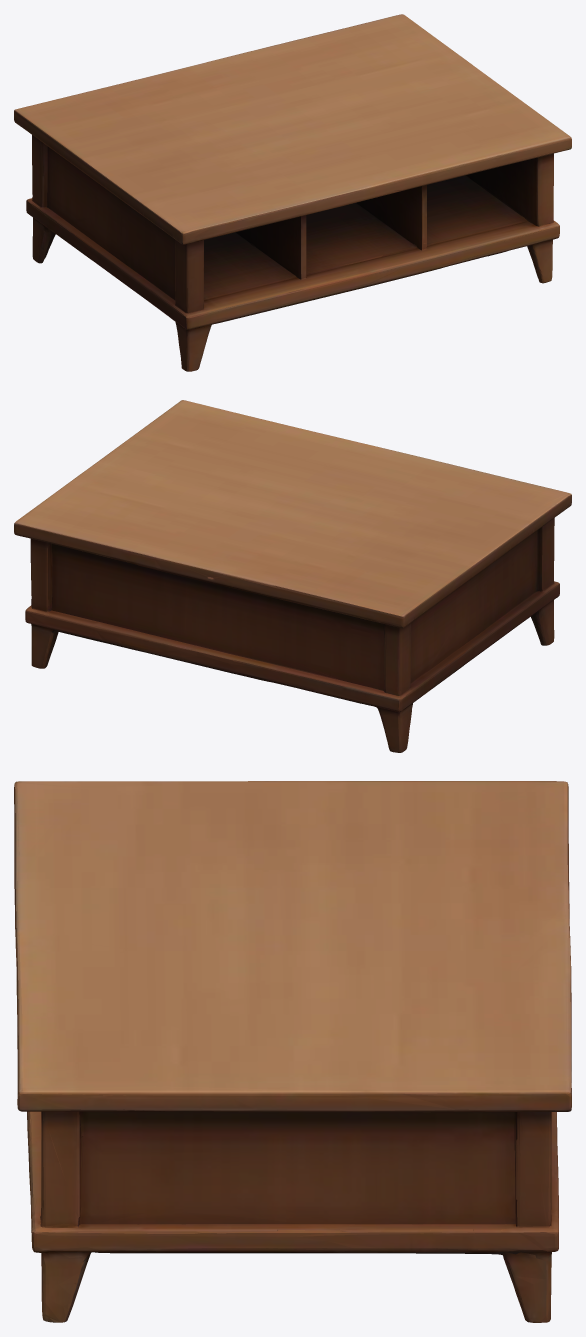
File: table.glb
The picture shows the model from 3 angles, top to bottom: view 1: azimuth 30°, elevation 25°; view 2: azimuth 150°, elevation 25°; view 3: azimuth 270°, elevation 25°; orthographic projection. The views are drawn at different scales.
Visible parts, largest first — view 1: geometry_0; view 2: geometry_0; view 3: geometry_0.
Part boxes in pixels (x1,y1,x2,y2): geometry_0: [14, 14, 571, 371]; geometry_0: [14, 400, 571, 752]; geometry_0: [14, 781, 571, 1322].
Bounding box in the file's own units: 1 × 0.36 × 0.7561.
Materials: 1 (1 with a texture image).
